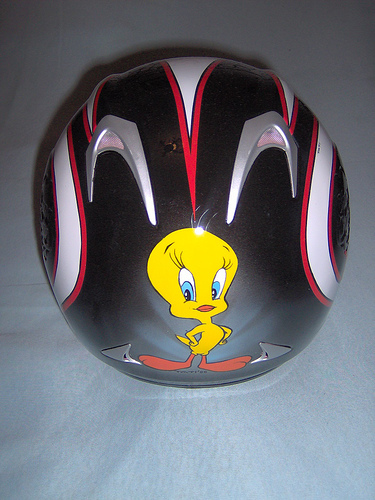helmet: (45, 60, 364, 381)
